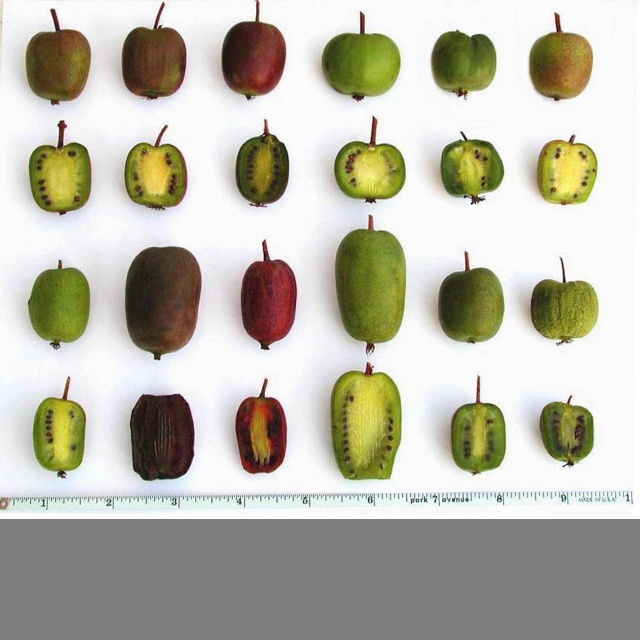kiwi: (126, 247, 201, 357), (334, 371, 404, 483), (339, 135, 410, 206), (30, 138, 90, 216), (540, 134, 594, 199)
